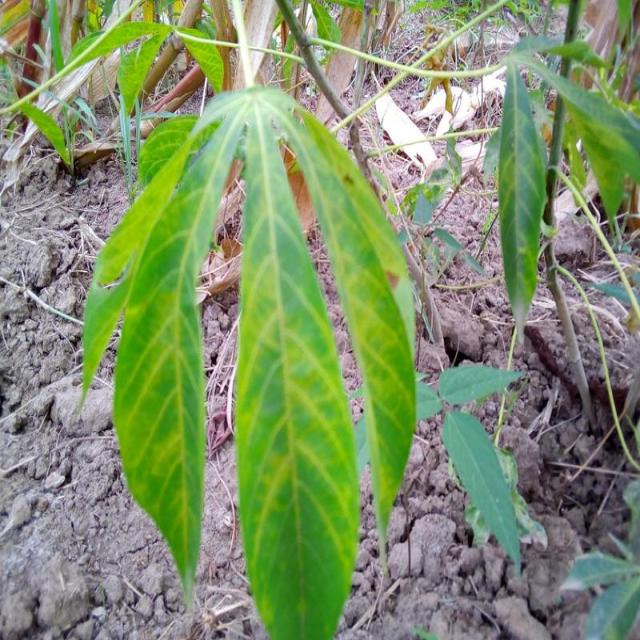cassava leaf: (80, 82, 418, 637), (233, 88, 360, 638), (496, 55, 548, 344), (441, 409, 522, 576)
